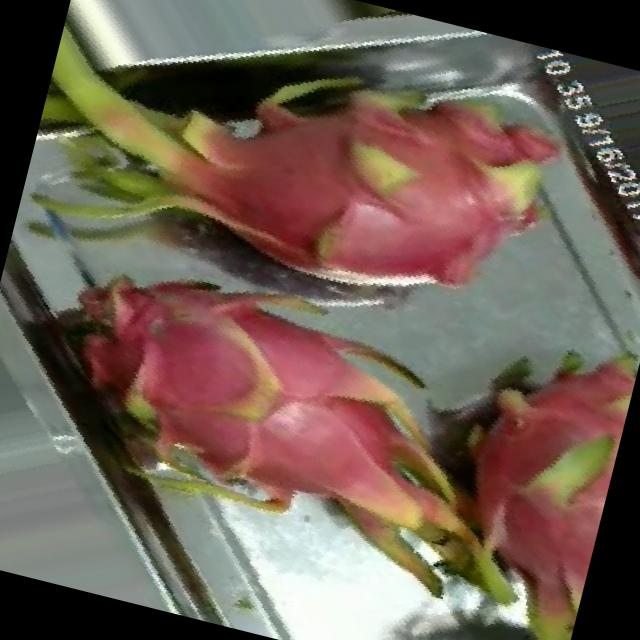Fruit: (452, 298, 640, 516)
